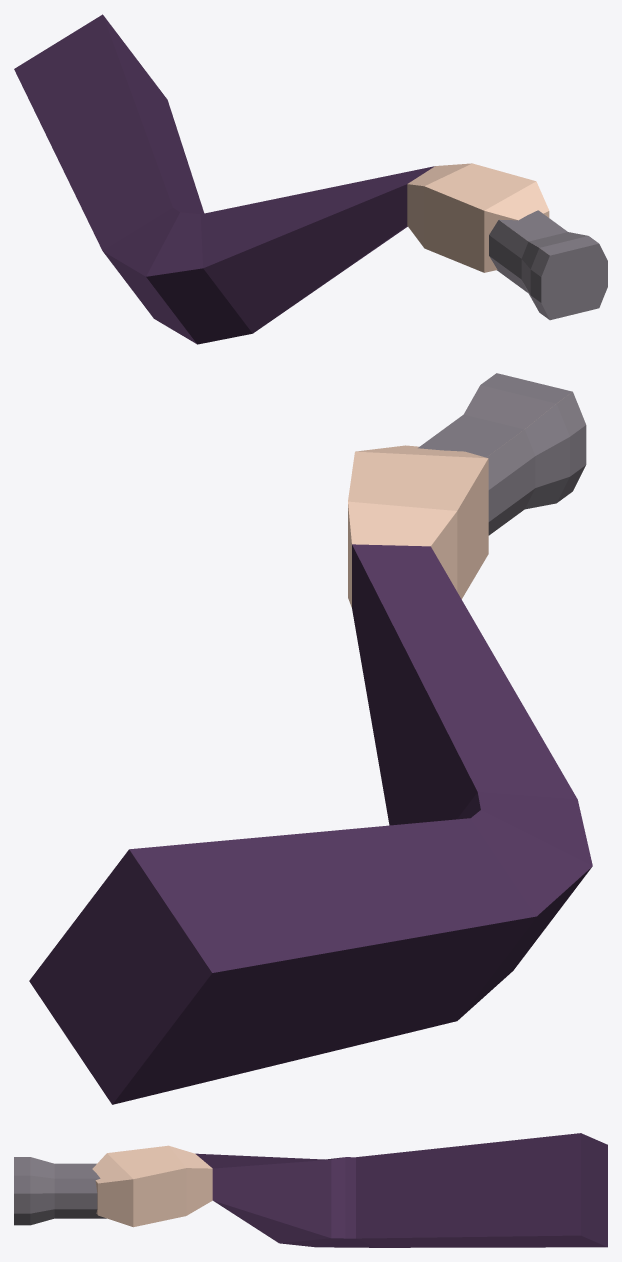
The model's file is ViewmodelFlashlight.fbx.
3 views of the same model, one above another, from view 1: azimuth 30°, elevation 25°; view 2: azimuth 150°, elevation 25°; view 3: azimuth 270°, elevation 25° (orthographic). The views are drawn at different scales.
Parts seen in each view (by area): view 1: Arm, Hand, Flashlight; view 2: Arm, Hand, Flashlight; view 3: Arm, Hand, Flashlight.
Part boxes in pixels (x1,y1,x2,y2): Arm: (14,14,434,344); Hand: (407,163,549,272); Flashlight: (489,210,607,320); Arm: (29,544,592,1104); Hand: (348,445,488,607); Flashlight: (418,373,586,535); Arm: (195,1133,607,1247); Hand: (92,1145,212,1227); Flashlight: (14,1157,106,1225).
Bounding box in the file's own units: 27.85 × 19.15 × 67.29.
Materials: 1 (1 with a texture image).
